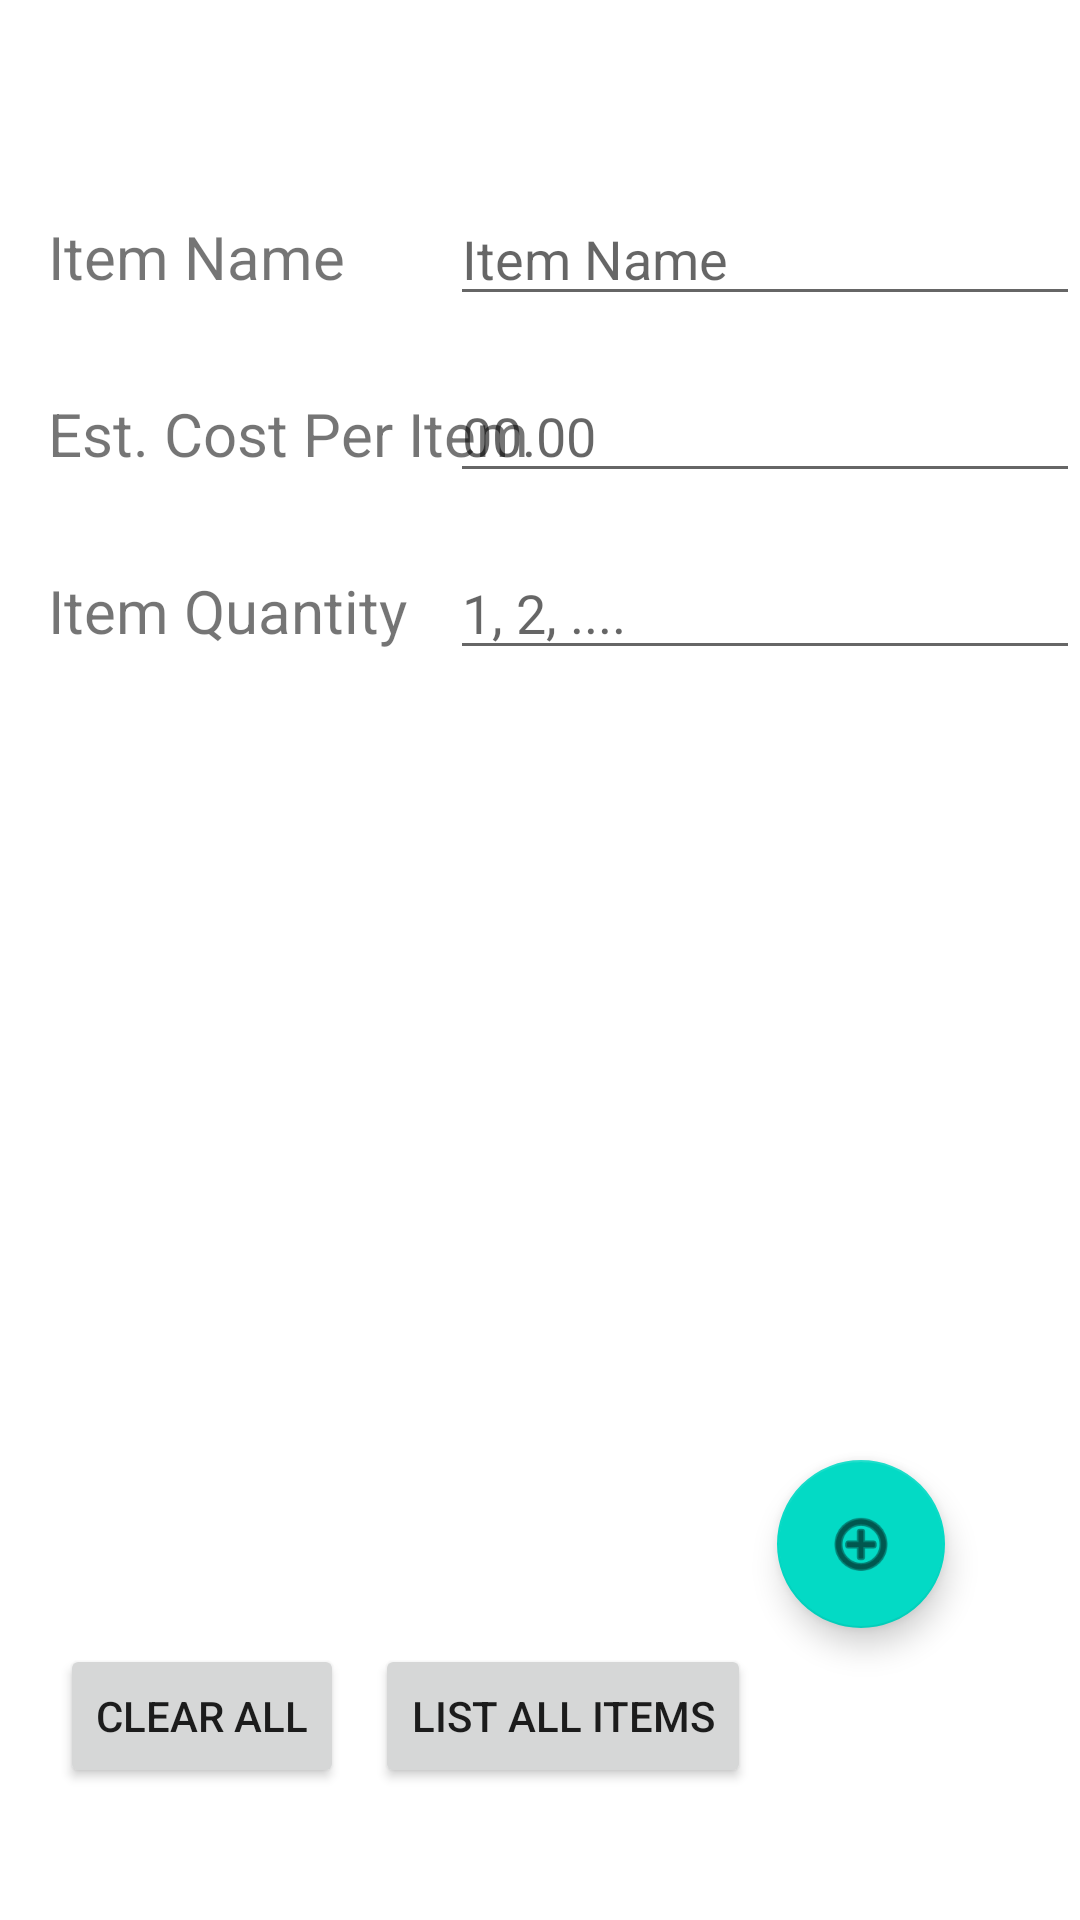

Icon bounding boxes for this 1080x1920 phone screenshot, format box=[x1, y1, x2, y2]:
add: box=[777, 1460, 945, 1628]
